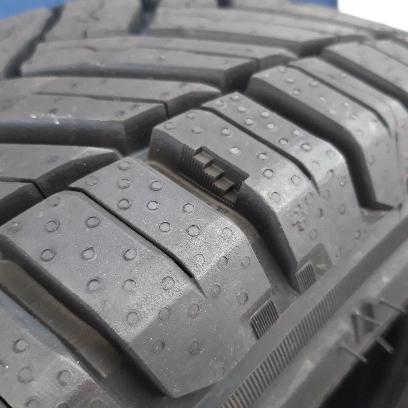temoin:100: (176, 143, 252, 209)
